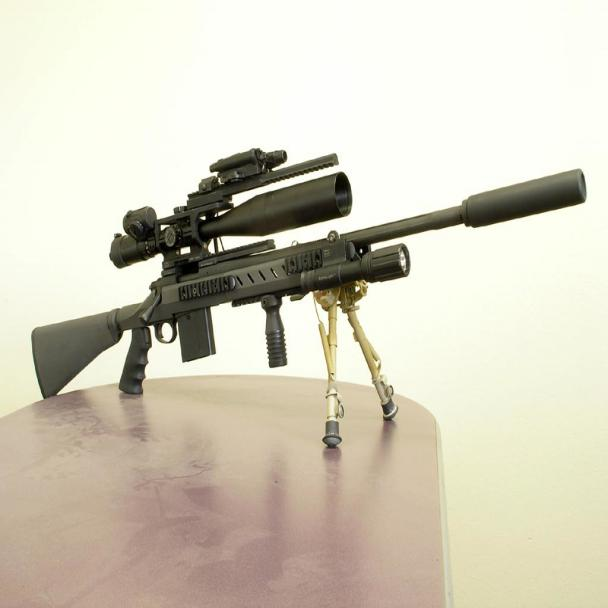Gun: (27, 147, 589, 455)
